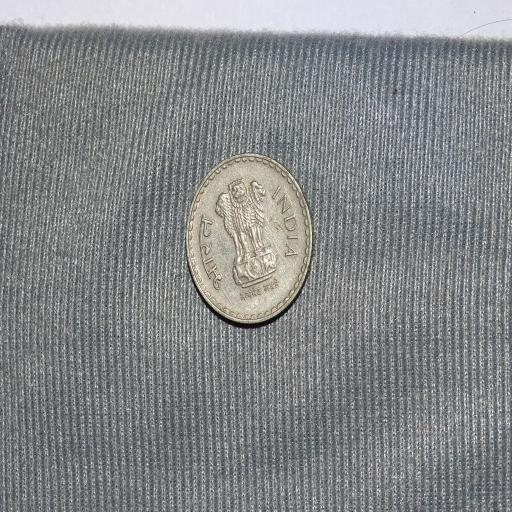rupee5: (181, 153, 316, 324)
